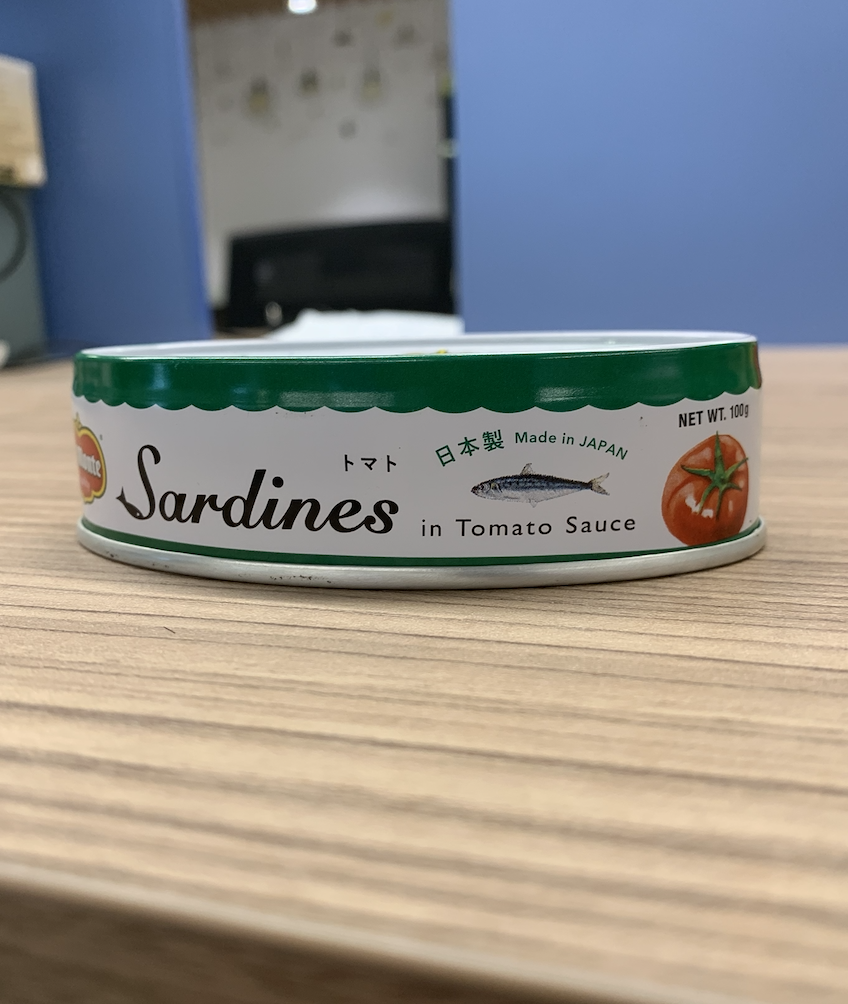sardines_100g-199g: (81, 367, 764, 547)
